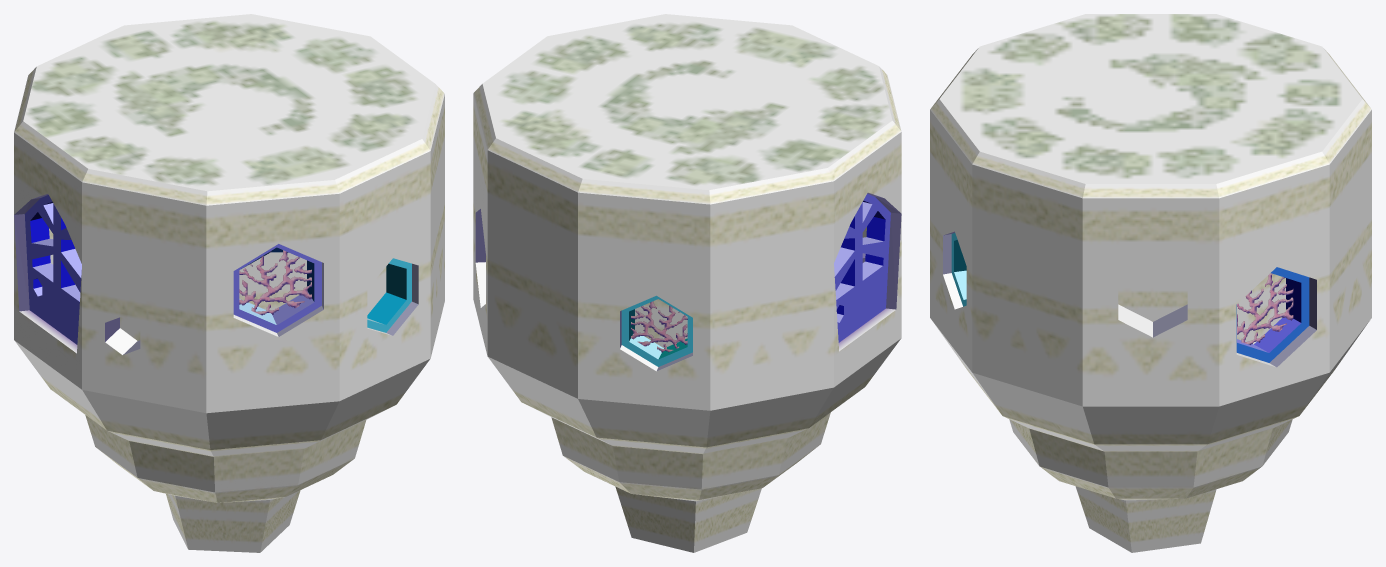
The model's file is ukisima.dae.
3 renders of one model, left to right at view 1: azimuth 30°, elevation 25°; view 2: azimuth 150°, elevation 25°; view 3: azimuth 270°, elevation 25°, orthographic.
Visible parts, largest first — view 1: m0, m1, m3; view 2: m0, m1, m3; view 3: m0, m1, m3.
Part boxes in pixels (left/top/right/bottom): m0: left=14, top=67, right=444, bottom=552; m1: left=23, top=14, right=435, bottom=315; m3: left=14, top=194, right=418, bottom=355; m0: left=473, top=66, right=901, bottom=552; m1: left=482, top=14, right=892, bottom=352; m3: left=475, top=192, right=901, bottom=371; m0: left=930, top=48, right=1371, bottom=552; m1: left=939, top=14, right=1362, bottom=344; m3: left=943, top=231, right=1316, bottom=367.
Bounding box in the file's own units: 802 × 904 × 844.
Materials: 4 (3 with a texture image).
